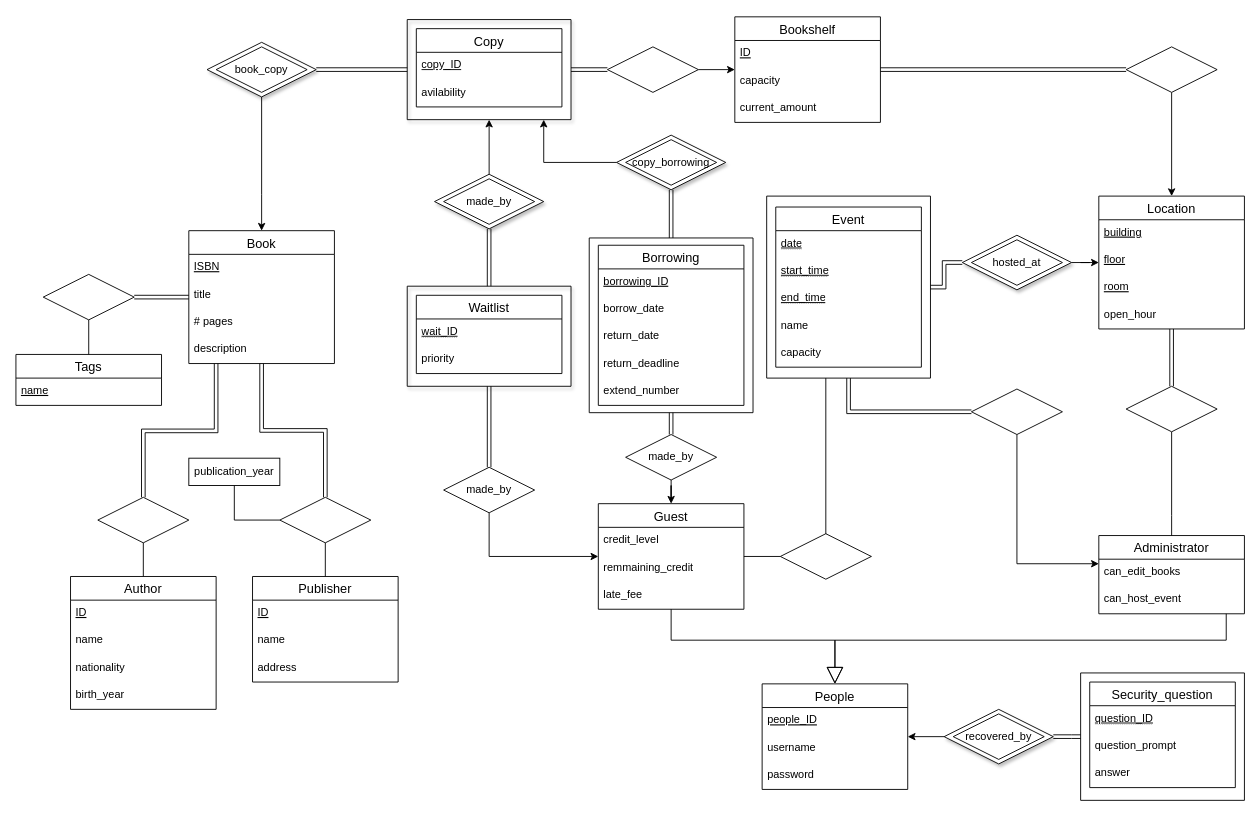
Some shapes in this 1260 by 816 pixel diagram are drawn without their labels. The shapes that lost their labels are listed below. From the top down, each one's centre as x and y in pixels, then its label:
At point (652, 69): "stored_in".
At point (1171, 69): "located_at".
At point (88, 296): "has_tags".
At point (1016, 411): "hosted_by".
At point (1171, 408): "in_charged_by".
At point (143, 519): "written_by".
At point (325, 519): "published_by".
At point (825, 556): "registered_by".
